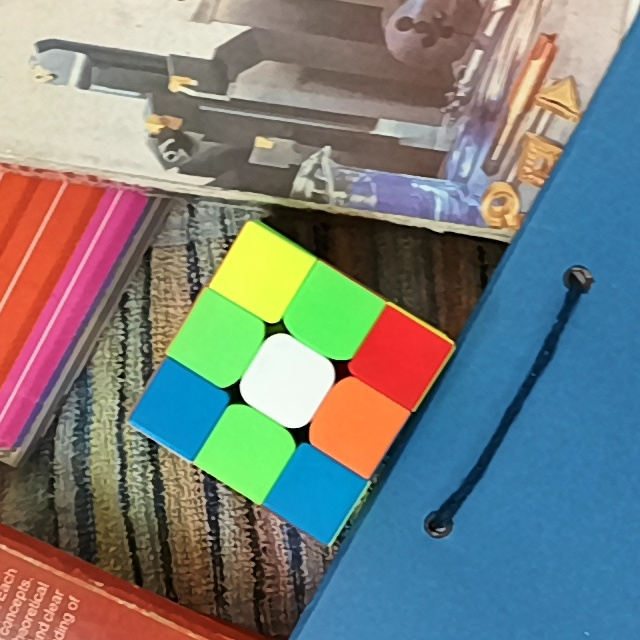tile: (305, 285, 361, 342), (218, 426, 274, 480), (286, 468, 343, 521), (192, 313, 248, 366), (330, 398, 382, 453), (259, 356, 314, 408), (237, 246, 290, 299), (375, 332, 425, 385), (158, 385, 206, 436)
